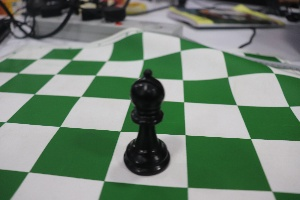black_bishop: (117, 58, 178, 182)
